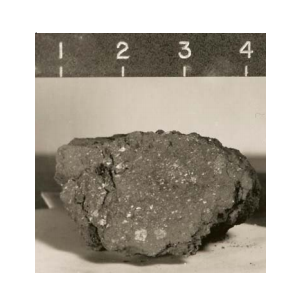Breccia: (32, 120, 236, 222)
